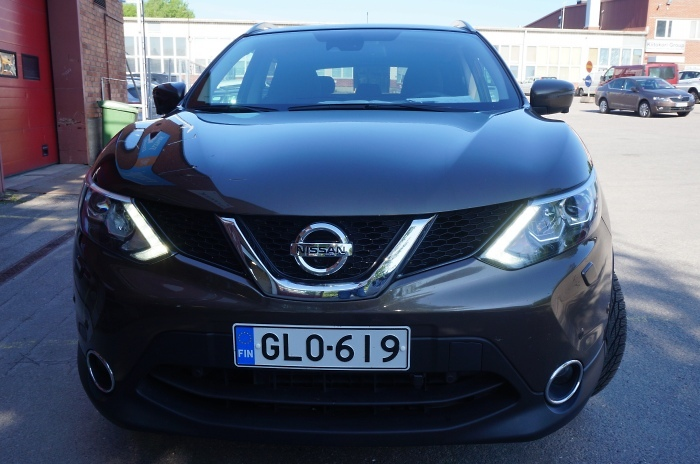license: (233, 324, 407, 370)
